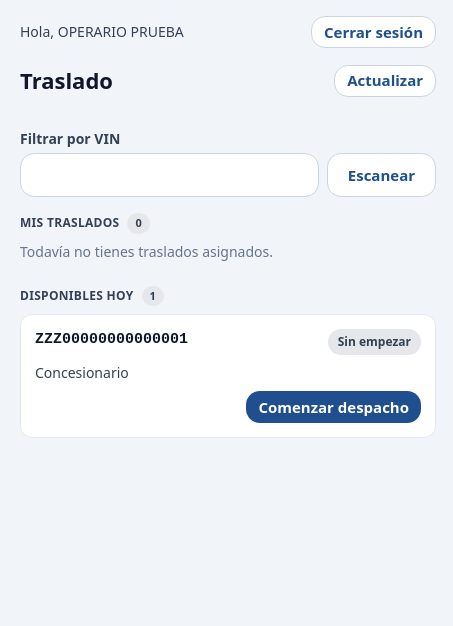
los mensajes de cada caso › AC2 · 404: «VIN no conocido»
Type "LSCABN3E2VE840638" into the search field labelled "Filtrar por VIN" at x=169, y=175, box [20,153,319,197]
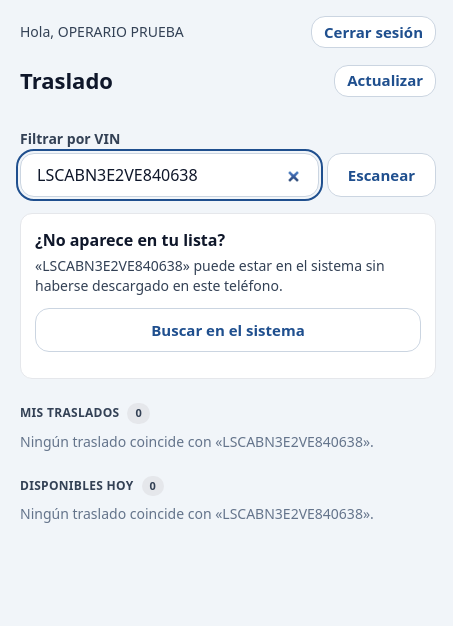
Click the button "Buscar en el sistema" at x=228, y=330, box [35,308,421,352]
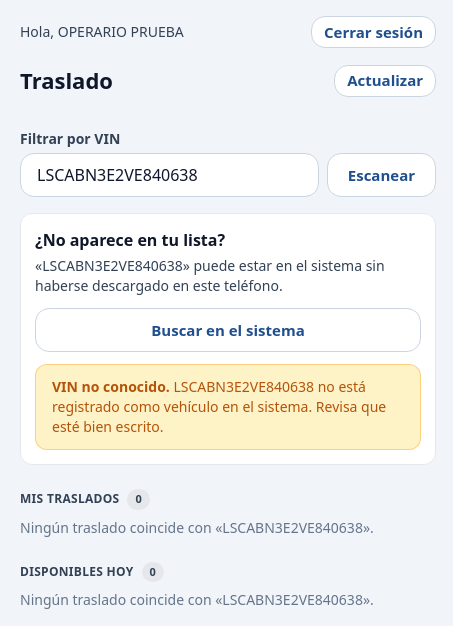
Check: the text "VIN no conocido." is shown, box [52,377,170,396]
Check: the text "no está registrado como vehículo en el sistema" is shown, box [52,377,386,436]
